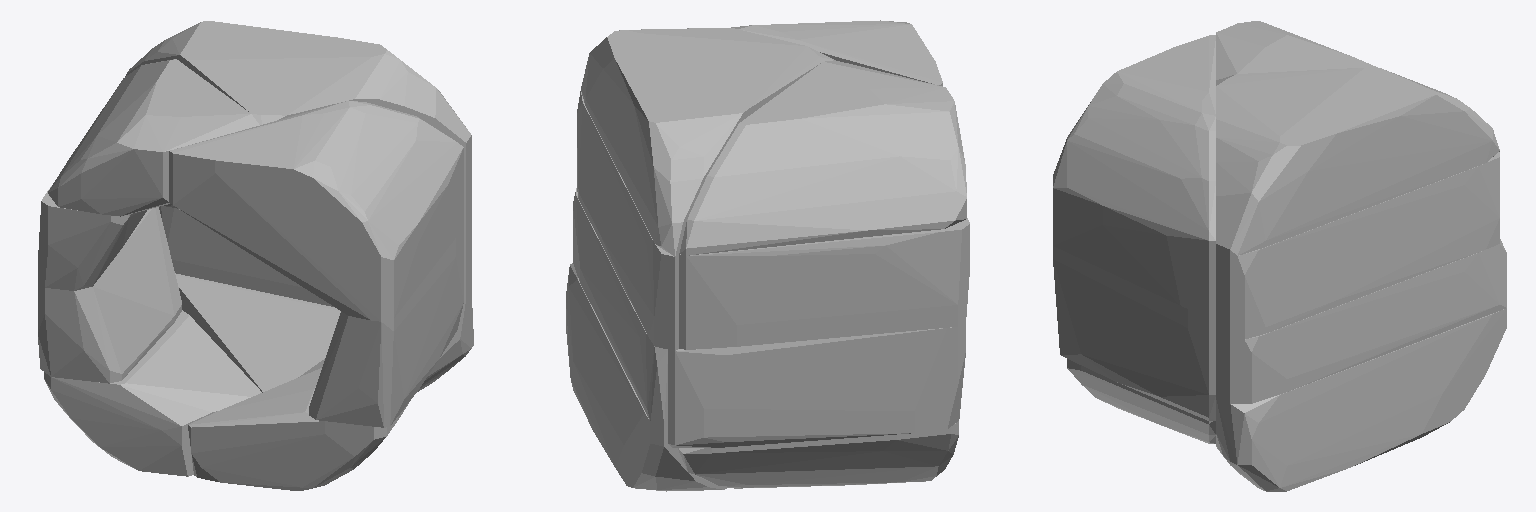
robot.urdf — root:
<robot name="root">
  <link name="link_thingiverse~rounded_box_107220_convex_piece_0">
    <inertial>
      <origin rpy="0 0 0" xyz="0 0 0"/>
      <mass value="1.36E-01"/>
      <inertia ixx="2.54E-04" ixy="-1.40E-05" ixz="2.87E-06" iyy="1.33E-04" iyz="-1.05E-04" izz="2.01E-04"/>
    </inertial>
    <visual>
      <origin rpy="0 0 0" xyz="0 0 0"/>
      <geometry>
        <mesh filename="thingiverse~rounded_box_107220_convex_piece_0.obj" scale="1.0000E+00 1.0000E+00 1.0000E+00"/>
      </geometry>
      <material name="">
        <color rgba="7.50E-01 7.50E-01 7.50E-01 1"/>
      </material>
    </visual>
    <collision>
      <origin rpy="0 0 0" xyz="0 0 0"/>
      <geometry>
        <mesh filename="thingiverse~rounded_box_107220_convex_piece_0.obj" scale="1.0000E+00 1.0000E+00 1.0000E+00"/>
      </geometry>
    </collision>
  </link>
  <link name="link_thingiverse~rounded_box_107220_convex_piece_1">
    <inertial>
      <origin rpy="0 0 0" xyz="0 0 0"/>
      <mass value="5.56E-02"/>
      <inertia ixx="1.29E-04" ixy="4.52E-07" ixz="1.96E-06" iyy="8.18E-05" iyz="6.04E-05" izz="6.85E-05"/>
    </inertial>
    <visual>
      <origin rpy="0 0 0" xyz="0 0 0"/>
      <geometry>
        <mesh filename="thingiverse~rounded_box_107220_convex_piece_1.obj" scale="1.0000E+00 1.0000E+00 1.0000E+00"/>
      </geometry>
      <material name="">
        <color rgba="7.50E-01 7.50E-01 7.50E-01 1"/>
      </material>
    </visual>
    <collision>
      <origin rpy="0 0 0" xyz="0 0 0"/>
      <geometry>
        <mesh filename="thingiverse~rounded_box_107220_convex_piece_1.obj" scale="1.0000E+00 1.0000E+00 1.0000E+00"/>
      </geometry>
    </collision>
  </link>
  <joint name="link_thingiverse~rounded_box_107220_convex_piece_1_joint" type="fixed">
    <origin rpy="0 0 0" xyz="0 0 0"/>
    <parent link="link_thingiverse~rounded_box_107220_convex_piece_0"/>
    <child link="link_thingiverse~rounded_box_107220_convex_piece_1"/>
  </joint>
  <link name="link_thingiverse~rounded_box_107220_convex_piece_2">
    <inertial>
      <origin rpy="0 0 0" xyz="0 0 0"/>
      <mass value="7.11E-02"/>
      <inertia ixx="1.16E-04" ixy="-3.24E-05" ixz="-1.19E-05" iyy="4.26E-05" iyz="2.98E-05" izz="1.29E-04"/>
    </inertial>
    <visual>
      <origin rpy="0 0 0" xyz="0 0 0"/>
      <geometry>
        <mesh filename="thingiverse~rounded_box_107220_convex_piece_2.obj" scale="1.0000E+00 1.0000E+00 1.0000E+00"/>
      </geometry>
      <material name="">
        <color rgba="7.50E-01 7.50E-01 7.50E-01 1"/>
      </material>
    </visual>
    <collision>
      <origin rpy="0 0 0" xyz="0 0 0"/>
      <geometry>
        <mesh filename="thingiverse~rounded_box_107220_convex_piece_2.obj" scale="1.0000E+00 1.0000E+00 1.0000E+00"/>
      </geometry>
    </collision>
  </link>
  <joint name="link_thingiverse~rounded_box_107220_convex_piece_2_joint" type="fixed">
    <origin rpy="0 0 0" xyz="0 0 0"/>
    <parent link="link_thingiverse~rounded_box_107220_convex_piece_1"/>
    <child link="link_thingiverse~rounded_box_107220_convex_piece_2"/>
  </joint>
  <link name="link_thingiverse~rounded_box_107220_convex_piece_3">
    <inertial>
      <origin rpy="0 0 0" xyz="0 0 0"/>
      <mass value="8.26E-02"/>
      <inertia ixx="1.21E-04" ixy="-1.16E-05" ixz="7.43E-05" iyy="1.69E-04" iyz="-1.58E-05" izz="8.82E-05"/>
    </inertial>
    <visual>
      <origin rpy="0 0 0" xyz="0 0 0"/>
      <geometry>
        <mesh filename="thingiverse~rounded_box_107220_convex_piece_3.obj" scale="1.0000E+00 1.0000E+00 1.0000E+00"/>
      </geometry>
      <material name="">
        <color rgba="7.50E-01 7.50E-01 7.50E-01 1"/>
      </material>
    </visual>
    <collision>
      <origin rpy="0 0 0" xyz="0 0 0"/>
      <geometry>
        <mesh filename="thingiverse~rounded_box_107220_convex_piece_3.obj" scale="1.0000E+00 1.0000E+00 1.0000E+00"/>
      </geometry>
    </collision>
  </link>
  <joint name="link_thingiverse~rounded_box_107220_convex_piece_3_joint" type="fixed">
    <origin rpy="0 0 0" xyz="0 0 0"/>
    <parent link="link_thingiverse~rounded_box_107220_convex_piece_2"/>
    <child link="link_thingiverse~rounded_box_107220_convex_piece_3"/>
  </joint>
  <link name="link_thingiverse~rounded_box_107220_convex_piece_4">
    <inertial>
      <origin rpy="0 0 0" xyz="0 0 0"/>
      <mass value="6.79E-02"/>
      <inertia ixx="5.90E-05" ixy="-3.87E-05" ixz="2.68E-05" iyy="9.36E-05" iyz="-1.86E-05" izz="1.24E-04"/>
    </inertial>
    <visual>
      <origin rpy="0 0 0" xyz="0 0 0"/>
      <geometry>
        <mesh filename="thingiverse~rounded_box_107220_convex_piece_4.obj" scale="1.0000E+00 1.0000E+00 1.0000E+00"/>
      </geometry>
      <material name="">
        <color rgba="7.50E-01 7.50E-01 7.50E-01 1"/>
      </material>
    </visual>
    <collision>
      <origin rpy="0 0 0" xyz="0 0 0"/>
      <geometry>
        <mesh filename="thingiverse~rounded_box_107220_convex_piece_4.obj" scale="1.0000E+00 1.0000E+00 1.0000E+00"/>
      </geometry>
    </collision>
  </link>
  <joint name="link_thingiverse~rounded_box_107220_convex_piece_4_joint" type="fixed">
    <origin rpy="0 0 0" xyz="0 0 0"/>
    <parent link="link_thingiverse~rounded_box_107220_convex_piece_3"/>
    <child link="link_thingiverse~rounded_box_107220_convex_piece_4"/>
  </joint>
  <link name="link_thingiverse~rounded_box_107220_convex_piece_5">
    <inertial>
      <origin rpy="0 0 0" xyz="0 0 0"/>
      <mass value="1.65E-01"/>
      <inertia ixx="2.26E-04" ixy="-3.27E-06" ixz="-7.12E-05" iyy="2.41E-04" iyz="-3.45E-05" izz="1.27E-04"/>
    </inertial>
    <visual>
      <origin rpy="0 0 0" xyz="0 0 0"/>
      <geometry>
        <mesh filename="thingiverse~rounded_box_107220_convex_piece_5.obj" scale="1.0000E+00 1.0000E+00 1.0000E+00"/>
      </geometry>
      <material name="">
        <color rgba="7.50E-01 7.50E-01 7.50E-01 1"/>
      </material>
    </visual>
    <collision>
      <origin rpy="0 0 0" xyz="0 0 0"/>
      <geometry>
        <mesh filename="thingiverse~rounded_box_107220_convex_piece_5.obj" scale="1.0000E+00 1.0000E+00 1.0000E+00"/>
      </geometry>
    </collision>
  </link>
  <joint name="link_thingiverse~rounded_box_107220_convex_piece_5_joint" type="fixed">
    <origin rpy="0 0 0" xyz="0 0 0"/>
    <parent link="link_thingiverse~rounded_box_107220_convex_piece_4"/>
    <child link="link_thingiverse~rounded_box_107220_convex_piece_5"/>
  </joint>
  <link name="link_thingiverse~rounded_box_107220_convex_piece_6">
    <inertial>
      <origin rpy="0 0 0" xyz="0 0 0"/>
      <mass value="7.23E-02"/>
      <inertia ixx="4.12E-05" ixy="-2.37E-06" ixz="-1.13E-05" iyy="4.93E-05" iyz="-6.92E-06" izz="7.66E-05"/>
    </inertial>
    <visual>
      <origin rpy="0 0 0" xyz="0 0 0"/>
      <geometry>
        <mesh filename="thingiverse~rounded_box_107220_convex_piece_6.obj" scale="1.0000E+00 1.0000E+00 1.0000E+00"/>
      </geometry>
      <material name="">
        <color rgba="7.50E-01 7.50E-01 7.50E-01 1"/>
      </material>
    </visual>
    <collision>
      <origin rpy="0 0 0" xyz="0 0 0"/>
      <geometry>
        <mesh filename="thingiverse~rounded_box_107220_convex_piece_6.obj" scale="1.0000E+00 1.0000E+00 1.0000E+00"/>
      </geometry>
    </collision>
  </link>
  <joint name="link_thingiverse~rounded_box_107220_convex_piece_6_joint" type="fixed">
    <origin rpy="0 0 0" xyz="0 0 0"/>
    <parent link="link_thingiverse~rounded_box_107220_convex_piece_5"/>
    <child link="link_thingiverse~rounded_box_107220_convex_piece_6"/>
  </joint>
  <link name="link_thingiverse~rounded_box_107220_convex_piece_7">
    <inertial>
      <origin rpy="0 0 0" xyz="0 0 0"/>
      <mass value="6.11E-02"/>
      <inertia ixx="4.84E-05" ixy="-3.30E-05" ixz="-2.64E-05" iyy="9.04E-05" iyz="1.56E-05" izz="1.13E-04"/>
    </inertial>
    <visual>
      <origin rpy="0 0 0" xyz="0 0 0"/>
      <geometry>
        <mesh filename="thingiverse~rounded_box_107220_convex_piece_7.obj" scale="1.0000E+00 1.0000E+00 1.0000E+00"/>
      </geometry>
      <material name="">
        <color rgba="7.50E-01 7.50E-01 7.50E-01 1"/>
      </material>
    </visual>
    <collision>
      <origin rpy="0 0 0" xyz="0 0 0"/>
      <geometry>
        <mesh filename="thingiverse~rounded_box_107220_convex_piece_7.obj" scale="1.0000E+00 1.0000E+00 1.0000E+00"/>
      </geometry>
    </collision>
  </link>
  <joint name="link_thingiverse~rounded_box_107220_convex_piece_7_joint" type="fixed">
    <origin rpy="0 0 0" xyz="0 0 0"/>
    <parent link="link_thingiverse~rounded_box_107220_convex_piece_6"/>
    <child link="link_thingiverse~rounded_box_107220_convex_piece_7"/>
  </joint>
  <link name="link_thingiverse~rounded_box_107220_convex_piece_8">
    <inertial>
      <origin rpy="0 0 0" xyz="0 0 0"/>
      <mass value="7.96E-02"/>
      <inertia ixx="1.11E-04" ixy="-9.45E-06" ixz="-7.22E-05" iyy="1.61E-04" iyz="1.40E-05" izz="9.05E-05"/>
    </inertial>
    <visual>
      <origin rpy="0 0 0" xyz="0 0 0"/>
      <geometry>
        <mesh filename="thingiverse~rounded_box_107220_convex_piece_8.obj" scale="1.0000E+00 1.0000E+00 1.0000E+00"/>
      </geometry>
      <material name="">
        <color rgba="7.50E-01 7.50E-01 7.50E-01 1"/>
      </material>
    </visual>
    <collision>
      <origin rpy="0 0 0" xyz="0 0 0"/>
      <geometry>
        <mesh filename="thingiverse~rounded_box_107220_convex_piece_8.obj" scale="1.0000E+00 1.0000E+00 1.0000E+00"/>
      </geometry>
    </collision>
  </link>
  <joint name="link_thingiverse~rounded_box_107220_convex_piece_8_joint" type="fixed">
    <origin rpy="0 0 0" xyz="0 0 0"/>
    <parent link="link_thingiverse~rounded_box_107220_convex_piece_7"/>
    <child link="link_thingiverse~rounded_box_107220_convex_piece_8"/>
  </joint>
  <link name="link_thingiverse~rounded_box_107220_convex_piece_9">
    <inertial>
      <origin rpy="0 0 0" xyz="0 0 0"/>
      <mass value="1.01E-01"/>
      <inertia ixx="6.61E-05" ixy="-5.87E-06" ixz="2.06E-05" iyy="7.28E-05" iyz="1.33E-05" izz="9.81E-05"/>
    </inertial>
    <visual>
      <origin rpy="0 0 0" xyz="0 0 0"/>
      <geometry>
        <mesh filename="thingiverse~rounded_box_107220_convex_piece_9.obj" scale="1.0000E+00 1.0000E+00 1.0000E+00"/>
      </geometry>
      <material name="">
        <color rgba="7.50E-01 7.50E-01 7.50E-01 1"/>
      </material>
    </visual>
    <collision>
      <origin rpy="0 0 0" xyz="0 0 0"/>
      <geometry>
        <mesh filename="thingiverse~rounded_box_107220_convex_piece_9.obj" scale="1.0000E+00 1.0000E+00 1.0000E+00"/>
      </geometry>
    </collision>
  </link>
  <joint name="link_thingiverse~rounded_box_107220_convex_piece_9_joint" type="fixed">
    <origin rpy="0 0 0" xyz="0 0 0"/>
    <parent link="link_thingiverse~rounded_box_107220_convex_piece_8"/>
    <child link="link_thingiverse~rounded_box_107220_convex_piece_9"/>
  </joint>
  <link name="link_thingiverse~rounded_box_107220_convex_piece_10">
    <inertial>
      <origin rpy="0 0 0" xyz="0 0 0"/>
      <mass value="1.26E-01"/>
      <inertia ixx="1.96E-04" ixy="-4.38E-06" ixz="4.49E-05" iyy="1.96E-04" iyz="2.78E-05" izz="7.81E-05"/>
    </inertial>
    <visual>
      <origin rpy="0 0 0" xyz="0 0 0"/>
      <geometry>
        <mesh filename="thingiverse~rounded_box_107220_convex_piece_10.obj" scale="1.0000E+00 1.0000E+00 1.0000E+00"/>
      </geometry>
      <material name="">
        <color rgba="7.50E-01 7.50E-01 7.50E-01 1"/>
      </material>
    </visual>
    <collision>
      <origin rpy="0 0 0" xyz="0 0 0"/>
      <geometry>
        <mesh filename="thingiverse~rounded_box_107220_convex_piece_10.obj" scale="1.0000E+00 1.0000E+00 1.0000E+00"/>
      </geometry>
    </collision>
  </link>
  <joint name="link_thingiverse~rounded_box_107220_convex_piece_10_joint" type="fixed">
    <origin rpy="0 0 0" xyz="0 0 0"/>
    <parent link="link_thingiverse~rounded_box_107220_convex_piece_9"/>
    <child link="link_thingiverse~rounded_box_107220_convex_piece_10"/>
  </joint>
</robot>

--- Render facts (derived) ---
3 views of the same robot in one strip: view 1: azimuth 30°, elevation 25°; view 2: azimuth 150°, elevation 25°; view 3: azimuth 270°, elevation 25° (orthographic).
Model root with 11 links and 10 joints (10 fixed), rooted at link_thingiverse~rounded_box_107220_convex_piece_0, posed all joints at 0.
Visible links, largest first — view 1: link_thingiverse~rounded_box_107220_convex_piece_0, link_thingiverse~rounded_box_107220_convex_piece_10, link_thingiverse~rounded_box_107220_convex_piece_8, link_thingiverse~rounded_box_107220_convex_piece_3, link_thingiverse~rounded_box_107220_convex_piece_4, link_thingiverse~rounded_box_107220_convex_piece_2, link_thingiverse~rounded_box_107220_convex_piece_1, link_thingiverse~rounded_box_107220_convex_piece_5, link_thingiverse~rounded_box_107220_convex_piece_7, link_thingiverse~rounded_box_107220_convex_piece_6, link_thingiverse~rounded_box_107220_convex_piece_9; view 2: link_thingiverse~rounded_box_107220_convex_piece_8, link_thingiverse~rounded_box_107220_convex_piece_4, link_thingiverse~rounded_box_107220_convex_piece_10, link_thingiverse~rounded_box_107220_convex_piece_7, link_thingiverse~rounded_box_107220_convex_piece_3, link_thingiverse~rounded_box_107220_convex_piece_5, link_thingiverse~rounded_box_107220_convex_piece_9, link_thingiverse~rounded_box_107220_convex_piece_6, link_thingiverse~rounded_box_107220_convex_piece_0; view 3: link_thingiverse~rounded_box_107220_convex_piece_10, link_thingiverse~rounded_box_107220_convex_piece_0, link_thingiverse~rounded_box_107220_convex_piece_5, link_thingiverse~rounded_box_107220_convex_piece_9, link_thingiverse~rounded_box_107220_convex_piece_6, link_thingiverse~rounded_box_107220_convex_piece_2, link_thingiverse~rounded_box_107220_convex_piece_8, link_thingiverse~rounded_box_107220_convex_piece_1.
Link boxes in pixels (x1,y1,x2,y2): link_thingiverse~rounded_box_107220_convex_piece_0: [169, 101, 463, 321]; link_thingiverse~rounded_box_107220_convex_piece_10: [125, 21, 471, 149]; link_thingiverse~rounded_box_107220_convex_piece_8: [48, 59, 259, 216]; link_thingiverse~rounded_box_107220_convex_piece_3: [44, 310, 261, 476]; link_thingiverse~rounded_box_107220_convex_piece_4: [38, 207, 181, 383]; link_thingiverse~rounded_box_107220_convex_piece_2: [309, 225, 463, 427]; link_thingiverse~rounded_box_107220_convex_piece_1: [188, 368, 408, 490]; link_thingiverse~rounded_box_107220_convex_piece_5: [175, 273, 473, 392]; link_thingiverse~rounded_box_107220_convex_piece_7: [38, 186, 146, 290]; link_thingiverse~rounded_box_107220_convex_piece_6: [159, 206, 471, 306]; link_thingiverse~rounded_box_107220_convex_piece_9: [164, 142, 471, 233]; link_thingiverse~rounded_box_107220_convex_piece_8: [679, 60, 966, 255]; link_thingiverse~rounded_box_107220_convex_piece_4: [668, 321, 965, 447]; link_thingiverse~rounded_box_107220_convex_piece_10: [581, 28, 833, 256]; link_thingiverse~rounded_box_107220_convex_piece_7: [679, 218, 969, 349]; link_thingiverse~rounded_box_107220_convex_piece_3: [678, 421, 958, 488]; link_thingiverse~rounded_box_107220_convex_piece_5: [566, 263, 727, 491]; link_thingiverse~rounded_box_107220_convex_piece_9: [577, 91, 678, 350]; link_thingiverse~rounded_box_107220_convex_piece_6: [573, 188, 667, 424]; link_thingiverse~rounded_box_107220_convex_piece_0: [731, 20, 942, 85]; link_thingiverse~rounded_box_107220_convex_piece_10: [1216, 68, 1499, 255]; link_thingiverse~rounded_box_107220_convex_piece_0: [1053, 35, 1215, 317]; link_thingiverse~rounded_box_107220_convex_piece_5: [1216, 308, 1506, 491]; link_thingiverse~rounded_box_107220_convex_piece_9: [1216, 152, 1499, 339]; link_thingiverse~rounded_box_107220_convex_piece_6: [1216, 239, 1506, 403]; link_thingiverse~rounded_box_107220_convex_piece_2: [1053, 246, 1215, 420]; link_thingiverse~rounded_box_107220_convex_piece_8: [1216, 21, 1377, 79]; link_thingiverse~rounded_box_107220_convex_piece_1: [1067, 359, 1215, 443].
Size in the robot's own frame: 0.1117 by 0.1135 by 0.094 metres.
Meshes: 11 distinct files referenced, 11 mesh visuals loaded (11 OBJ).
